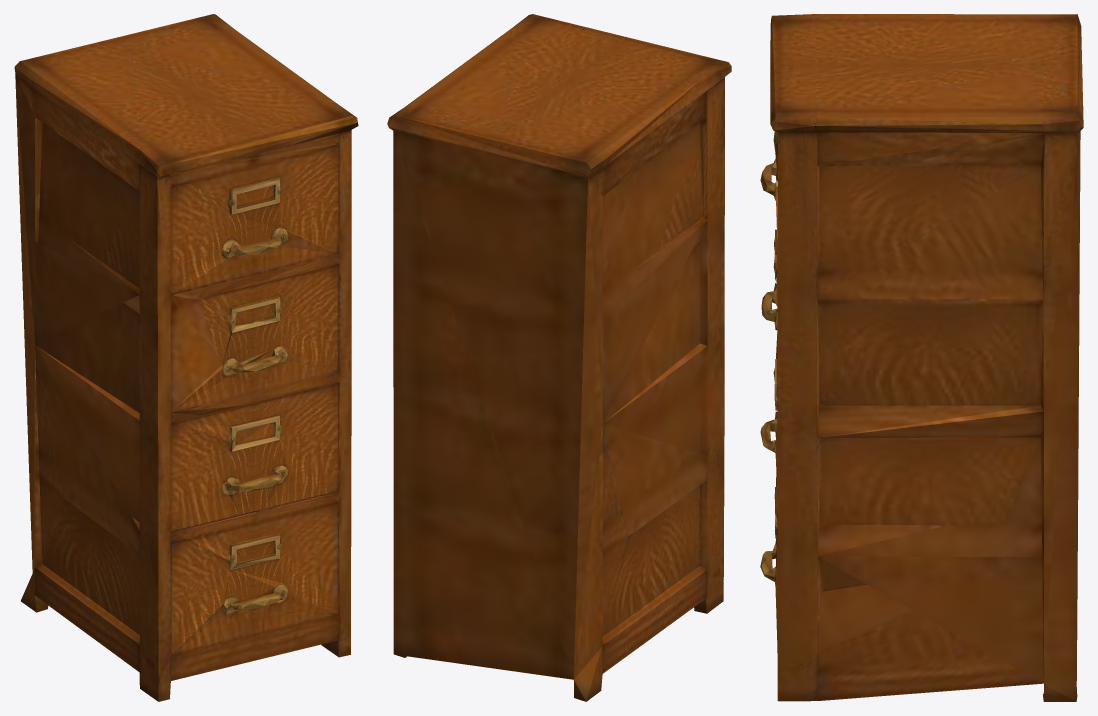
The model's file is filecab.glb.
The picture shows the model from 3 angles, left to right: view 1: azimuth 30°, elevation 25°; view 2: azimuth 150°, elevation 25°; view 3: azimuth 270°, elevation 25°; orthographic projection. The views are drawn at different scales.
Visible parts, largest first — view 1: Mesh_0; view 2: Mesh_0; view 3: Mesh_0.
Boxes of the visible parts, x1,y1,x2,y2 form: Mesh_0: [14, 14, 358, 701]; Mesh_0: [387, 14, 731, 701]; Mesh_0: [760, 14, 1083, 701].
Size of the model in its own units: 0.7517 by 1.9 by 0.9511.
1 material, 1 textured.
